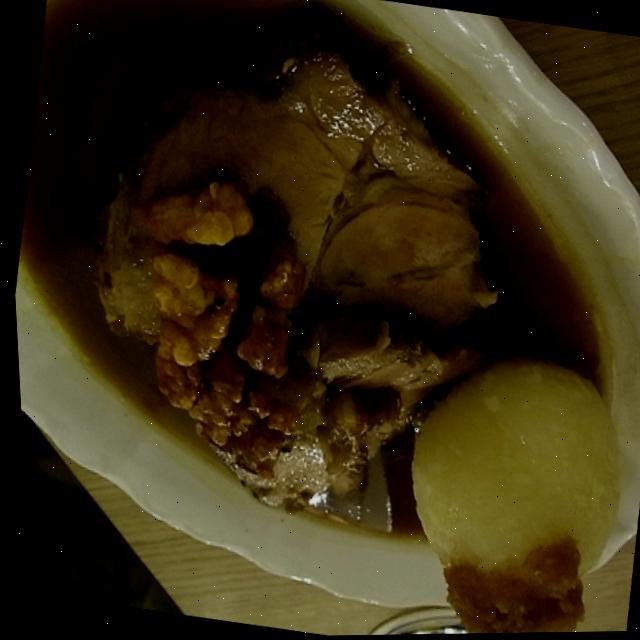猪肉菜式: (0, 0, 640, 637)
